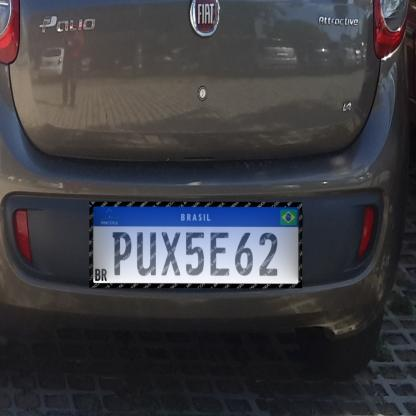PlacaM: (90, 202, 302, 288)
